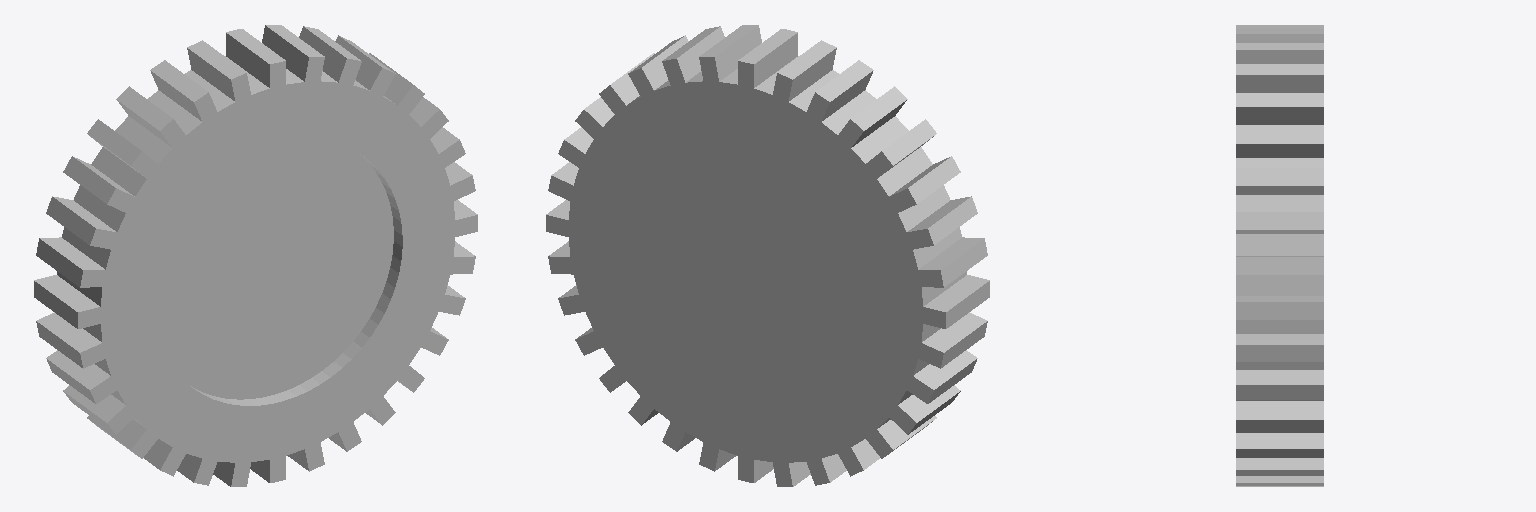
The model's file is Gear 2.obj.
3 renders of one model, left to right at view 1: azimuth 30°, elevation 25°; view 2: azimuth 150°, elevation 25°; view 3: azimuth 270°, elevation 25°, orthographic.
Visible parts, largest first — view 1: Cylinder.035; view 2: Cylinder.035; view 3: Cylinder.035.
Boxes of the visible parts, x1,y1,x2,y2 form: Cylinder.035: [34, 25, 477, 486]; Cylinder.035: [546, 25, 989, 486]; Cylinder.035: [1236, 25, 1323, 486].
Size of the model in its own units: 7.78 by 7.78 by 1.48.